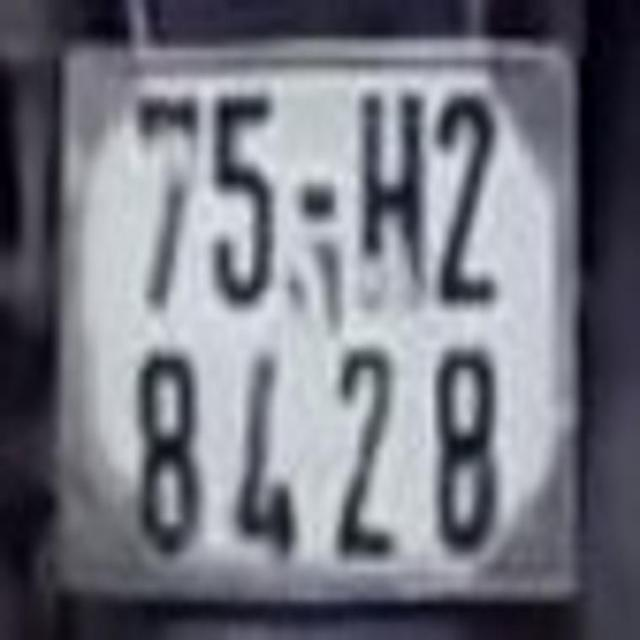2: (334, 346, 398, 560), (435, 95, 497, 304)
4: (234, 354, 302, 563)
5: (211, 94, 277, 307)
7: (130, 96, 200, 310)
8: (138, 353, 202, 558), (436, 351, 496, 554)
H: (360, 91, 427, 310)
